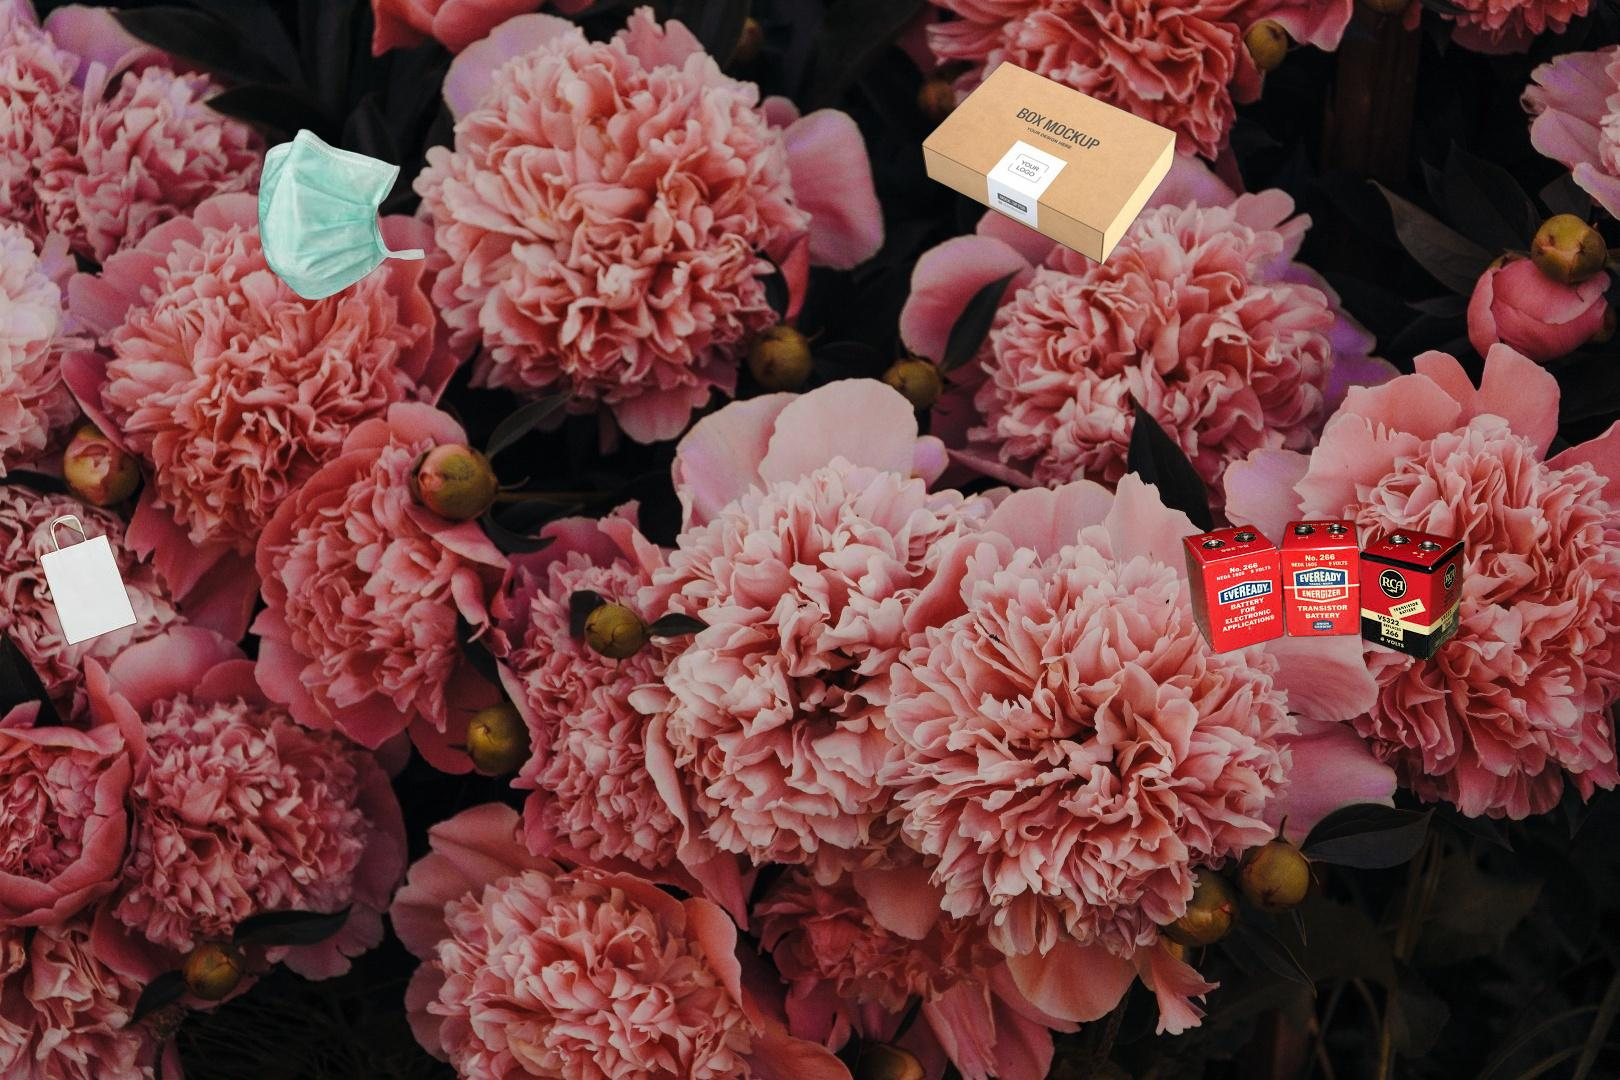battery: (1179, 517, 1468, 664)
paper-bag: (37, 511, 140, 648)
trash: (257, 127, 428, 303)
trashbox-cardboard: (918, 59, 1179, 268)
